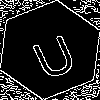U: (25, 25, 81, 82)
